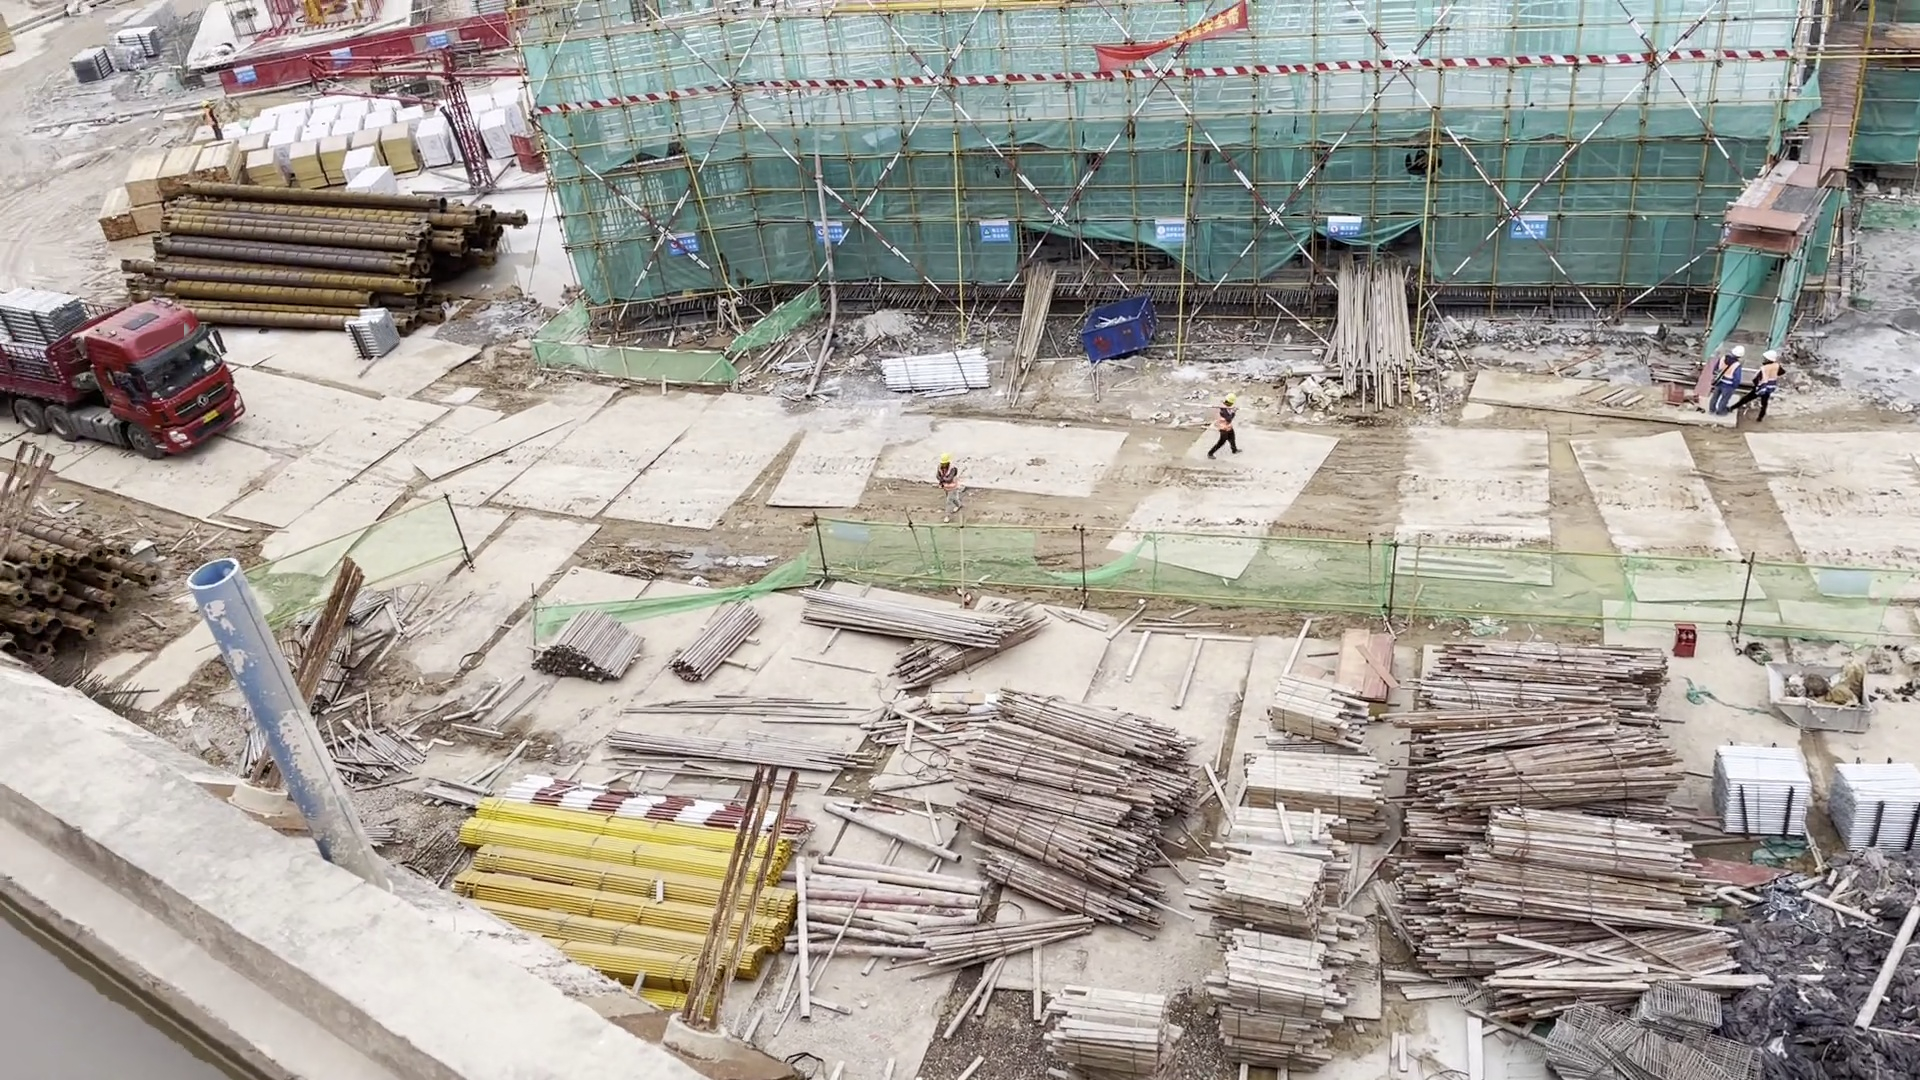ebox: (1766, 663, 1872, 737), (1082, 293, 1160, 365)
helmet: (1762, 349, 1778, 363), (1731, 344, 1745, 358), (1224, 391, 1237, 404), (939, 452, 952, 463)
person: (1727, 350, 1784, 423), (1710, 346, 1746, 413), (932, 449, 962, 524), (1208, 390, 1240, 459)
vest: (1756, 365, 1783, 396), (1719, 356, 1740, 384), (1214, 406, 1234, 432)
wood: (1401, 640, 1773, 1022), (955, 686, 1205, 942), (1205, 927, 1335, 1073), (1040, 982, 1188, 1080), (1240, 748, 1388, 842), (1224, 807, 1349, 897), (1198, 850, 1326, 930), (1266, 676, 1370, 745)
